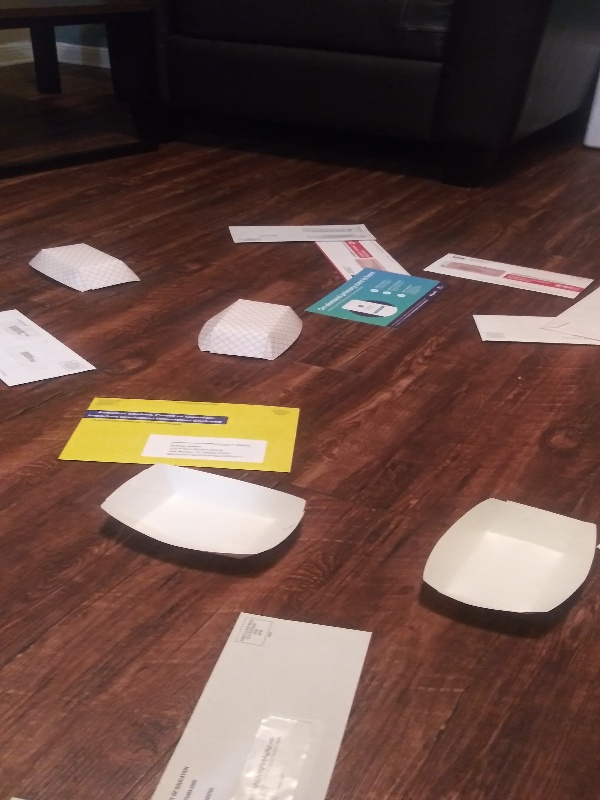plate: (98, 459, 313, 567), (419, 492, 600, 620), (195, 293, 309, 364), (24, 239, 143, 297)
